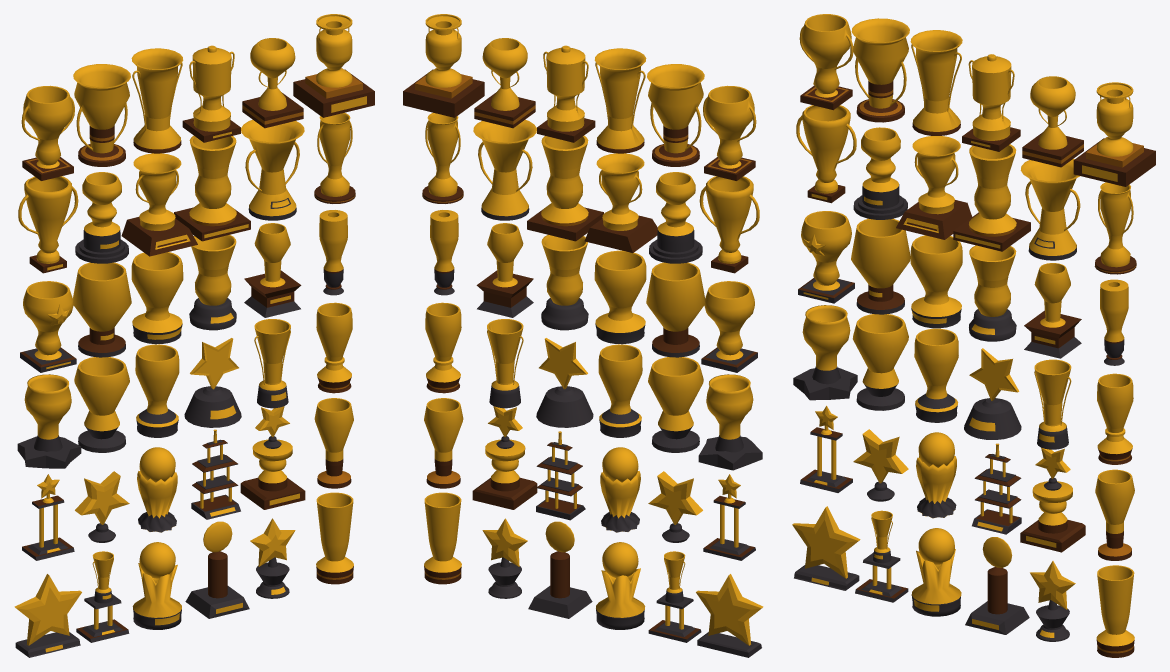
Rendered from Cups.fbx.
3 views of the same model, side by side, from view 1: azimuth 30°, elevation 25°; view 2: azimuth 150°, elevation 25°; view 3: azimuth 330°, elevation 25° (orthographic).
Visible parts, largest first — view 1: Cup.035, Cup.031, Cup.036, Cup.026, Cup.004, Cup.032, Cup.028, Cup.012, Cup.002, Cup.021, Cup.030, Cup.033 (+24 smaller); view 2: Cup.035, Cup.031, Cup.026, Cup.004, Cup.036, Cup.032, Cup.028, Cup.012, Cup.021, Cup.002, Cup.030, Cup.033 (+24 smaller); view 3: Cup.035, Cup.031, Cup.026, Cup.036, Cup.004, Cup.032, Cup.012, Cup.028, Cup.002, Cup.021, Cup.030, Cup.033 (+24 smaller).
Boxes of the visible parts, <box> form: Cup.035: <box>293,14,374,117</box>; Cup.031: <box>73,64,130,166</box>; Cup.036: <box>121,153,197,256</box>; Cup.026: <box>174,135,250,241</box>; Cup.004: <box>72,262,131,357</box>; Cup.032: <box>131,48,183,153</box>; Cup.028: <box>241,119,304,220</box>; Cup.012: <box>74,357,129,452</box>; Cup.002: <box>17,374,81,468</box>; Cup.021: <box>131,252,183,344</box>; Cup.030: <box>21,85,74,180</box>; Cup.033: <box>182,45,240,142</box>; Cup.035: <box>403,14,484,117</box>; Cup.031: <box>647,64,704,166</box>; Cup.026: <box>527,135,603,241</box>; Cup.004: <box>646,262,705,357</box>; Cup.036: <box>584,153,657,252</box>; Cup.032: <box>594,48,646,153</box>; Cup.028: <box>473,119,536,220</box>; Cup.012: <box>648,357,703,452</box>; Cup.021: <box>594,250,646,344</box>; Cup.002: <box>698,374,762,470</box>; Cup.030: <box>703,85,756,180</box>; Cup.033: <box>537,45,595,142</box>; Cup.035: <box>1073,82,1155,186</box>; Cup.031: <box>851,18,909,122</box>; Cup.026: <box>953,144,1030,251</box>; Cup.036: <box>896,136,972,239</box>; Cup.004: <box>851,218,910,314</box>; Cup.032: <box>910,30,962,135</box>; Cup.012: <box>852,314,908,410</box>; Cup.028: <box>1020,159,1080,260</box>; Cup.002: <box>793,305,857,400</box>; Cup.021: <box>910,235,962,328</box>; Cup.030: <box>799,14,853,110</box>; Cup.033: <box>962,54,1020,151</box>.
Bounding box in the file's own units: 757 × 1177 × 125.
